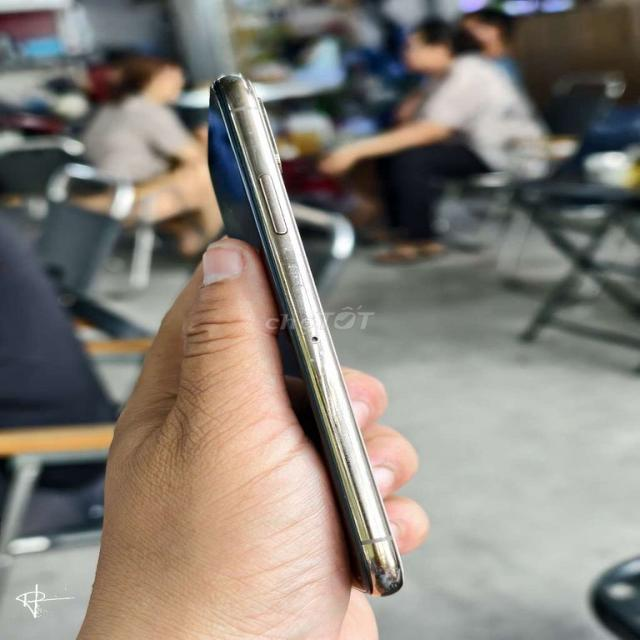gen_x_xs: (208, 75, 402, 594)
